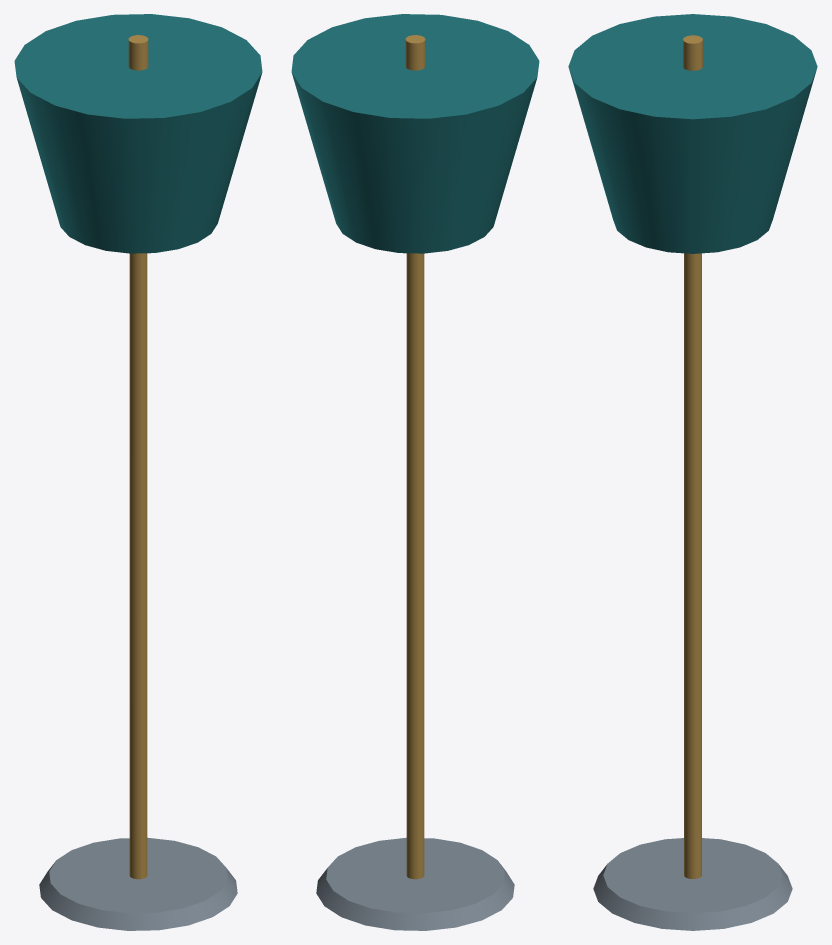
File: floor-lamp-lod0.glb
3 views of the same model, side by side, from view 1: azimuth 30°, elevation 25°; view 2: azimuth 150°, elevation 25°; view 3: azimuth 270°, elevation 25° (orthographic).
Parts seen in each view (by area): view 1: shade, base, pole, finial; view 2: shade, base, pole, finial; view 3: shade, base, pole, finial.
Part boxes in pixels (x1,y1,x2,y2): shade: (14, 14, 262, 253); base: (39, 837, 237, 930); pole: (129, 253, 147, 879); finial: (128, 35, 148, 70); shade: (291, 14, 539, 253); base: (316, 837, 514, 930); pole: (406, 253, 424, 879); finial: (405, 35, 425, 70); shade: (568, 14, 817, 253); base: (593, 838, 792, 930); pole: (684, 253, 701, 878); finial: (683, 35, 702, 70).
Size of the model in its own units: 0.5 by 1.88 by 0.5.
